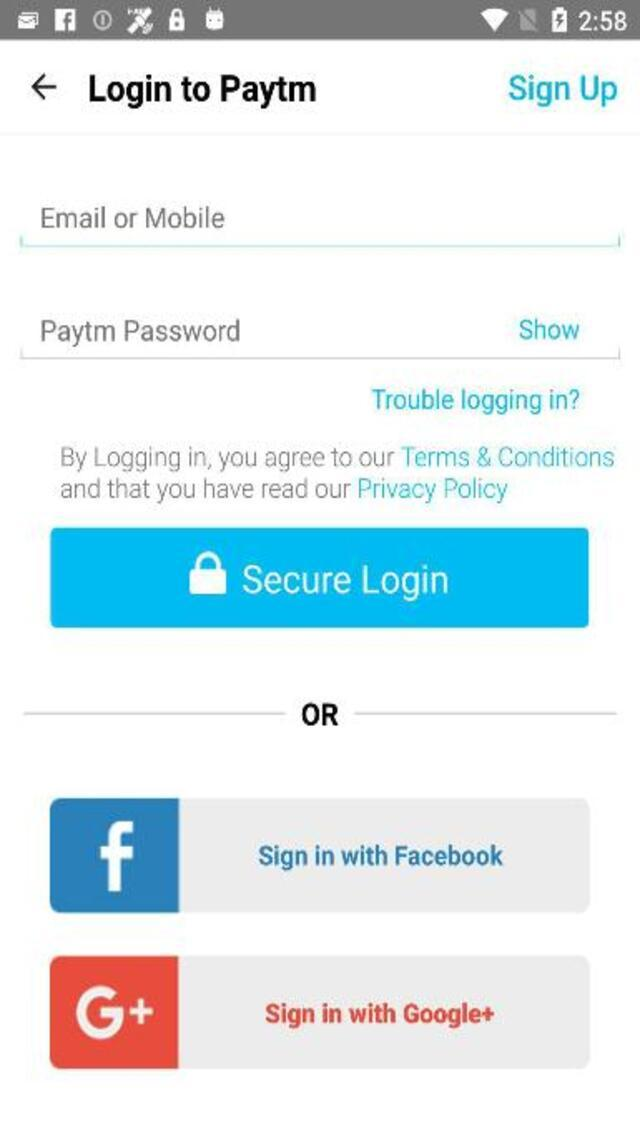Icon: (70, 981, 159, 1043), (89, 816, 145, 894), (182, 545, 232, 599), (30, 74, 56, 100)
Text: (53, 444, 614, 473), (55, 476, 513, 507), (243, 561, 452, 603), (262, 995, 498, 1032), (250, 840, 509, 872), (90, 72, 316, 108), (372, 388, 580, 416), (44, 318, 240, 346), (42, 207, 224, 228), (510, 73, 618, 108), (518, 318, 580, 340), (302, 702, 340, 724)
TextButton: (49, 798, 589, 914), (49, 955, 589, 1069), (49, 528, 588, 628)
